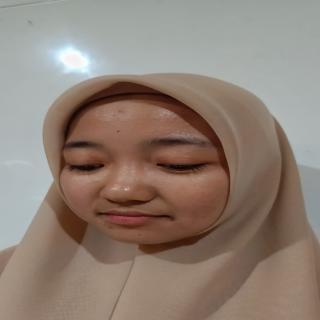Sedih: (57, 85, 249, 248)
